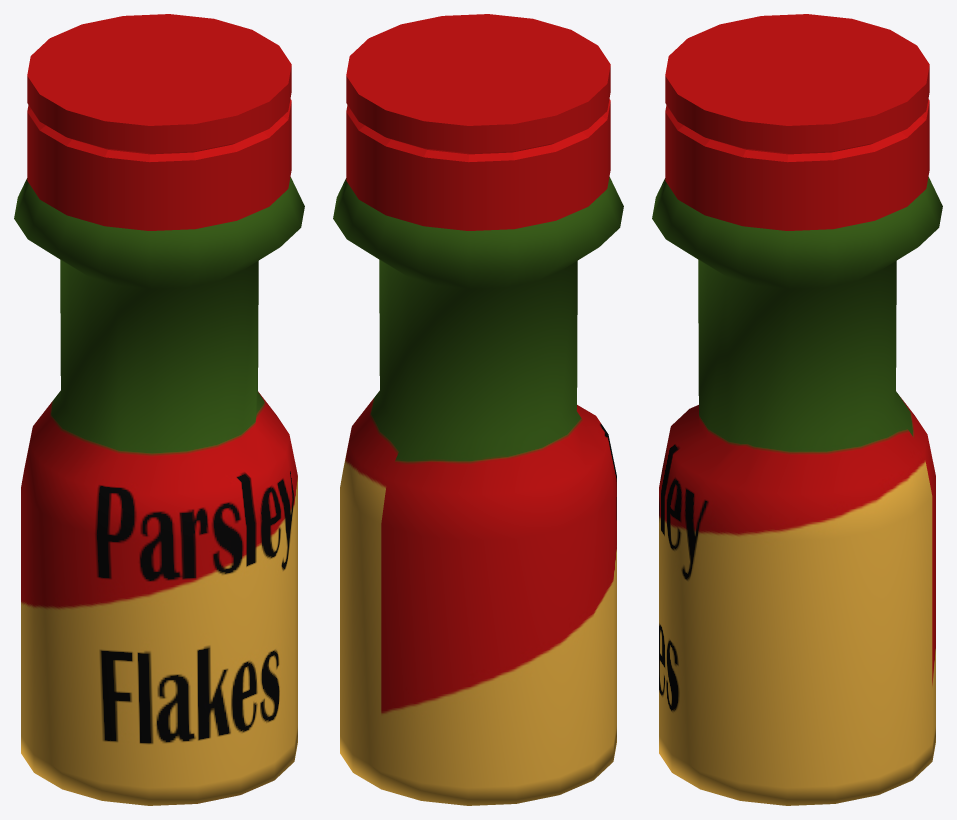
File: Parsleyflakes_Naughty_3.FBX
The picture shows the model from 3 angles, left to right: view 1: azimuth 30°, elevation 25°; view 2: azimuth 150°, elevation 25°; view 3: azimuth 270°, elevation 25°; orthographic projection.
Visible parts, largest first — view 1: Parsley_Flakes; view 2: Parsley_Flakes; view 3: Parsley_Flakes.
Boxes of the visible parts, x1,y1,x2,y2 form: Parsley_Flakes: (14, 14, 304, 805); Parsley_Flakes: (333, 14, 623, 805); Parsley_Flakes: (652, 14, 942, 805).
Size of the model in its own units: 3.81 by 9.76 by 3.8.
